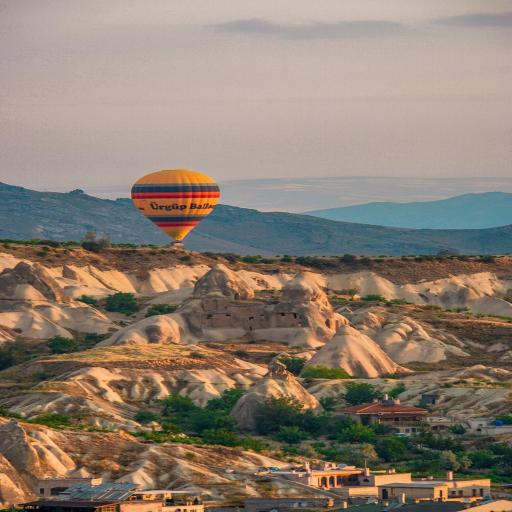hot air ballon: (130, 169, 219, 246)
